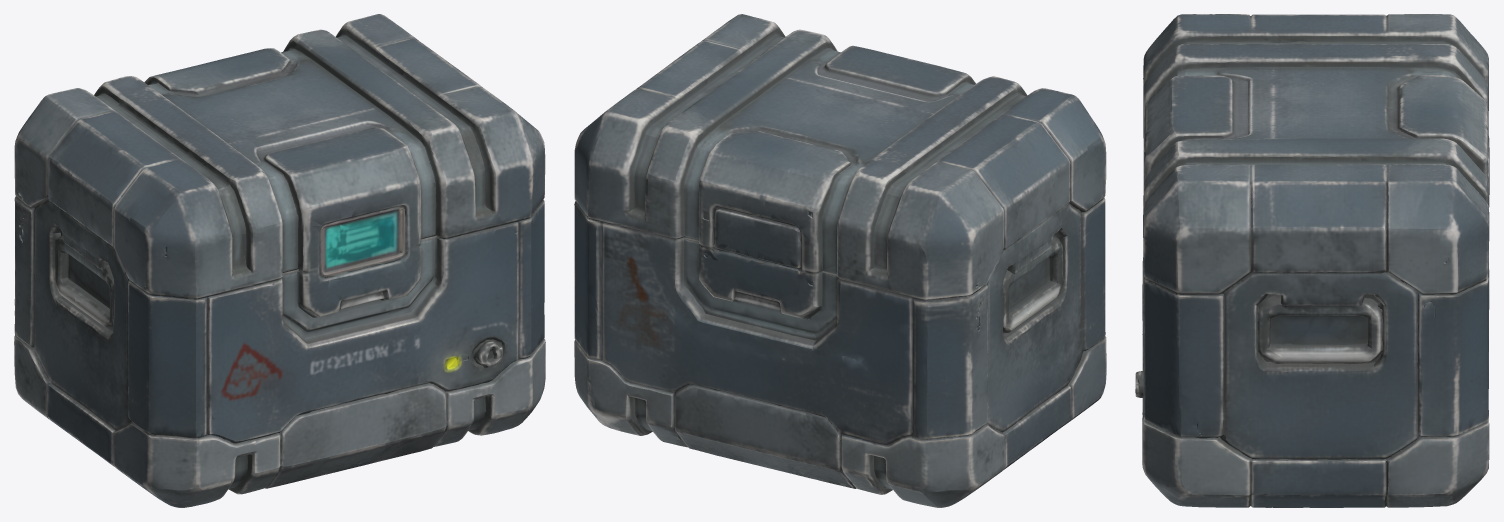
File: crate.glb
The picture shows the model from 3 angles, left to right: view 1: azimuth 30°, elevation 25°; view 2: azimuth 150°, elevation 25°; view 3: azimuth 270°, elevation 25°; orthographic projection. The views are drawn at different scales.
Visible parts, largest first — view 1: world; view 2: world; view 3: world.
Part boxes in pixels (box(x1,y1,x2,y2)): world: box(14, 14, 545, 507); world: box(574, 14, 1106, 507); world: box(1135, 14, 1489, 507).
Size of the model in its own units: 0.45 by 0.3422 by 0.3362.
1 material, 1 textured.
